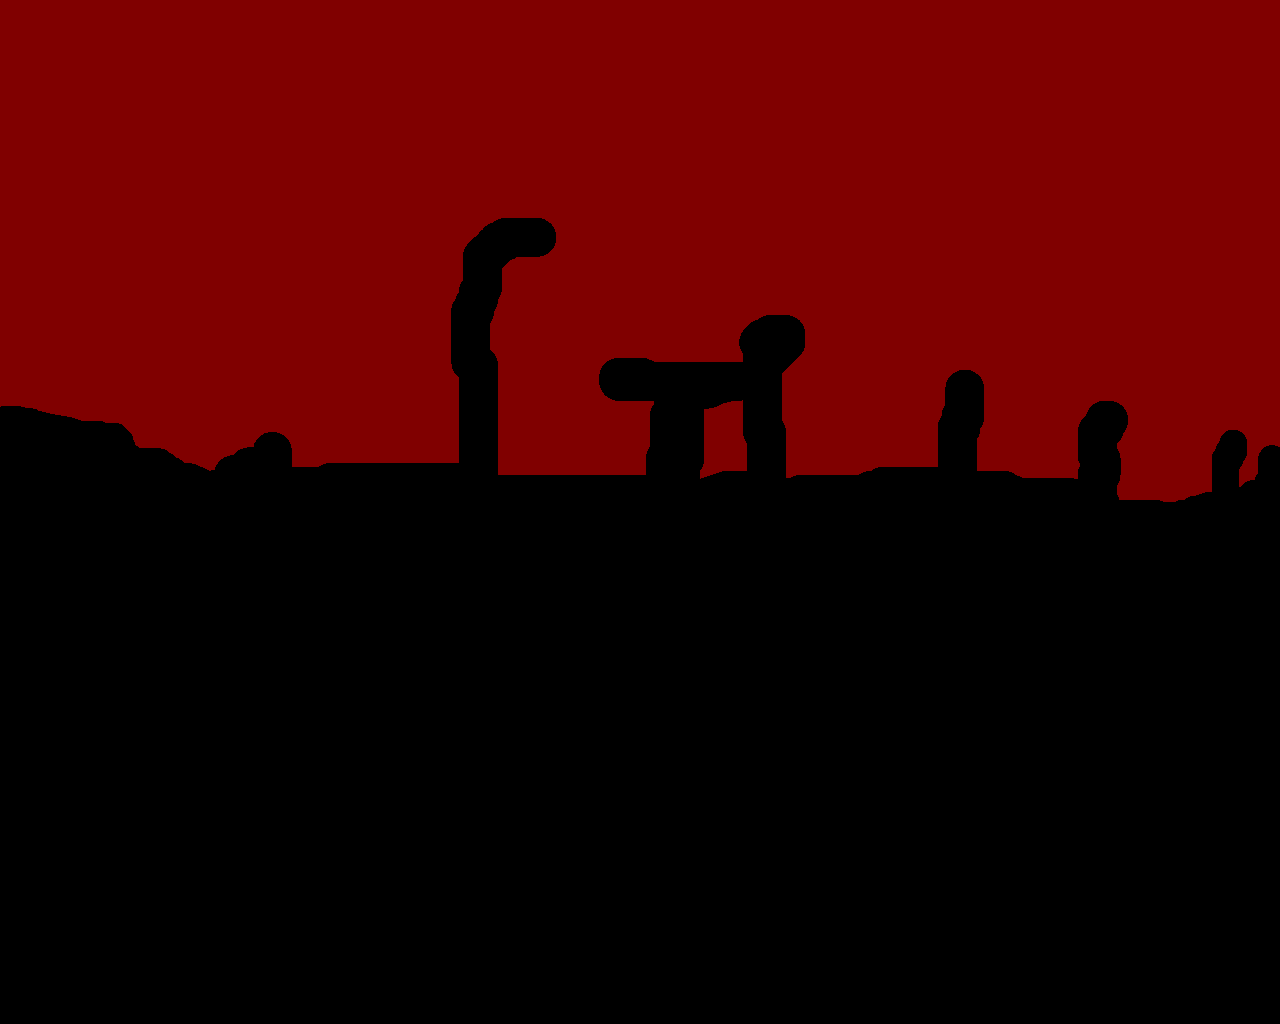Sky: (1, 1, 1279, 502)
